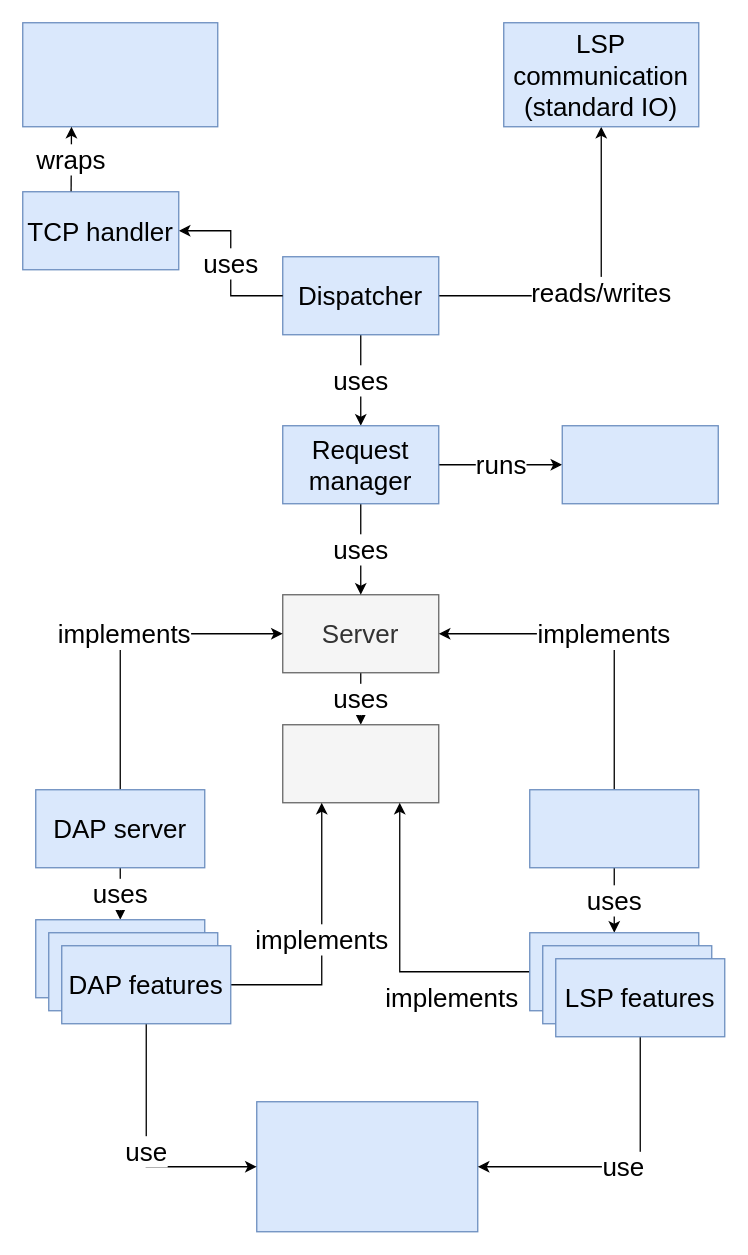
This 748x1255 diagram has some shape labels left out. Here are the shapes that lost their labels. From the top down, the centre of each, then its label:
the point at 119,74: DAP communication (TCP loopback)
the point at 639,464: Request
the point at 360,763: Feature
the point at 613,828: LSP server
the point at 366,1166: Parser library
